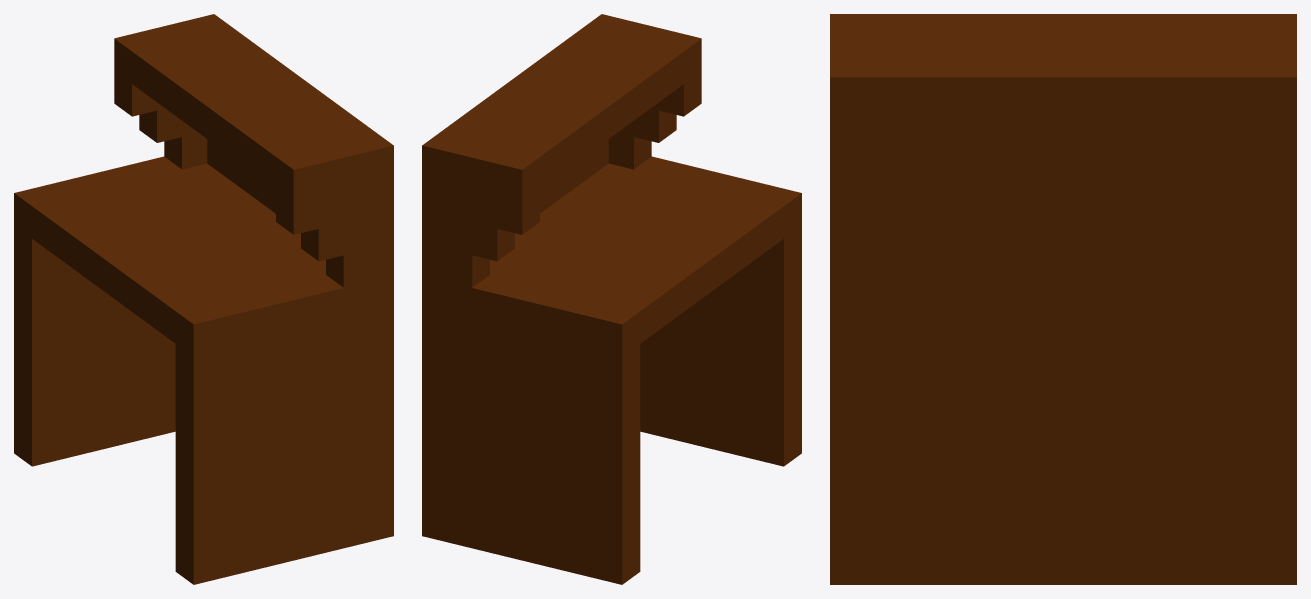
The model's file is Desk.fbx.
The picture shows the model from 3 angles, left to right: view 1: azimuth 30°, elevation 25°; view 2: azimuth 150°, elevation 25°; view 3: azimuth 270°, elevation 25°; orthographic projection. The views are drawn at different scales.
Parts seen in each view (by area): view 1: Desk; view 2: Desk; view 3: Desk.
Part boxes in pixels (x1=…): Desk: x1=14, y1=14, x2=393, y2=584; Desk: x1=422, y1=14, x2=801, y2=584; Desk: x1=830, y1=14, x2=1296, y2=584.
Size of the model in its own units: 4.58 by 8.55 by 7.12.
